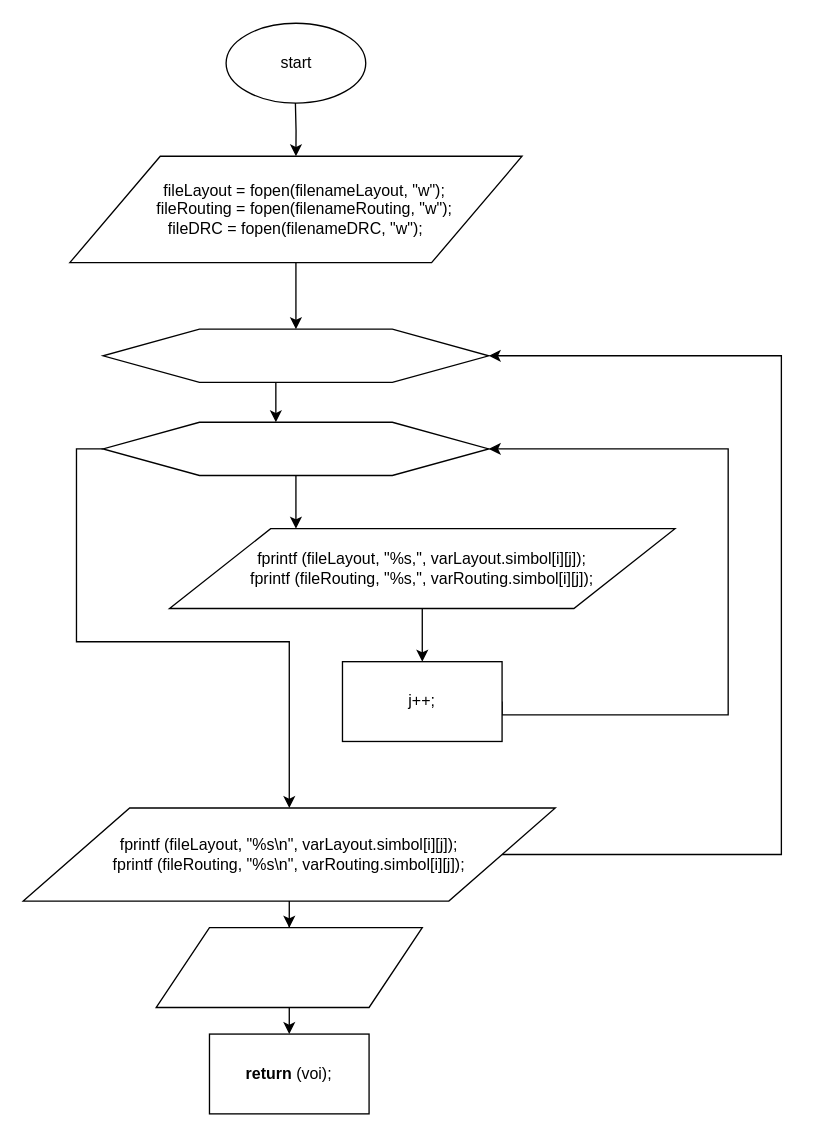
The diagram is 815 pixels wide and 1137 high, and some of its shapes have lost their labels. Here are the shapes that lost their labels. From the top down, the centre of each, then its label:
At point (295, 355): "i = 0 ; i < varLayout.rowNeff;".
At point (295, 448): "j = 0 ; j < varLayout.colNeff-1;".
At point (288, 966): "fclose(fileLayout); fclose(fileRouting); fclose(fileDRC);".
